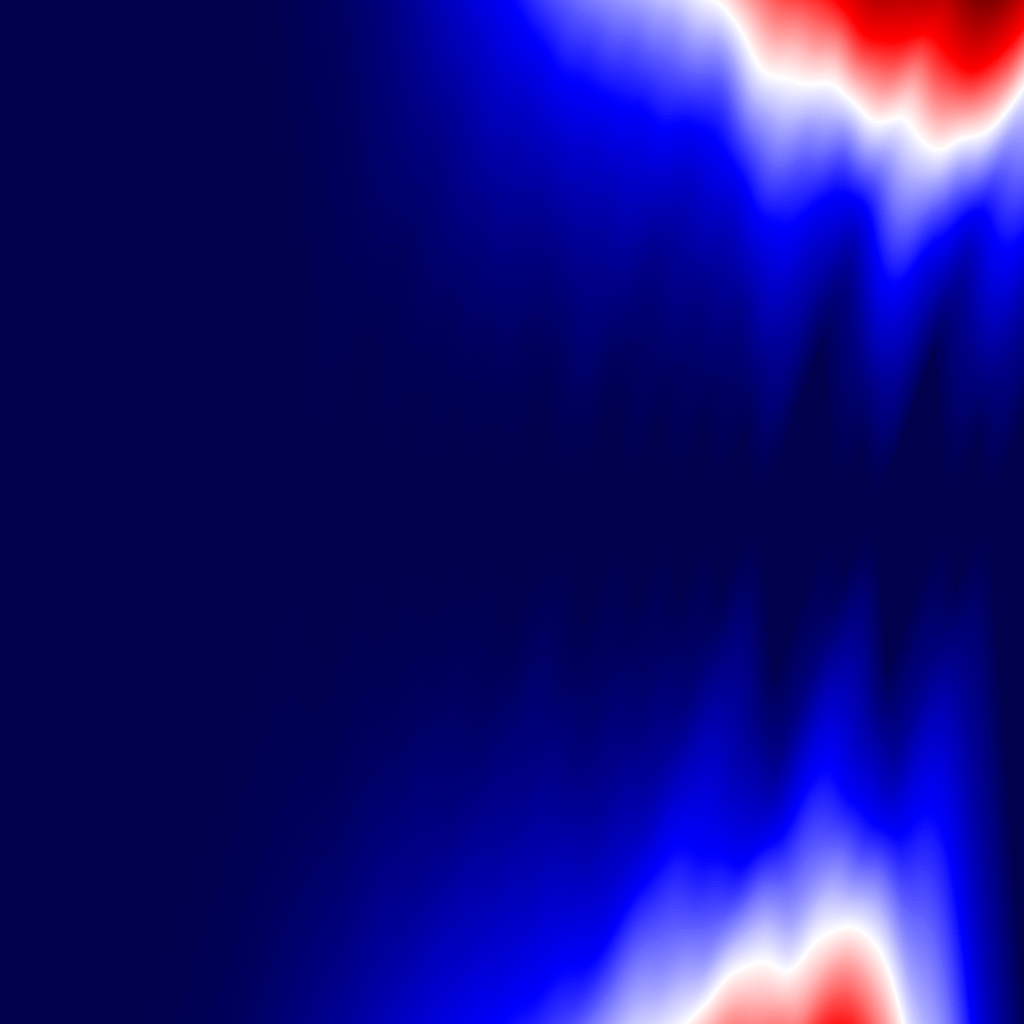diamond: (189, 228, 313, 796), (762, 335, 839, 689), (874, 335, 951, 689), (313, 358, 380, 666), (577, 395, 628, 629), (502, 399, 551, 625), (381, 406, 427, 618), (629, 411, 673, 613), (673, 414, 716, 610), (716, 422, 755, 602), (428, 424, 466, 600), (952, 425, 990, 599), (466, 429, 502, 595), (840, 429, 876, 595), (552, 454, 577, 570), (756, 498, 762, 526)
